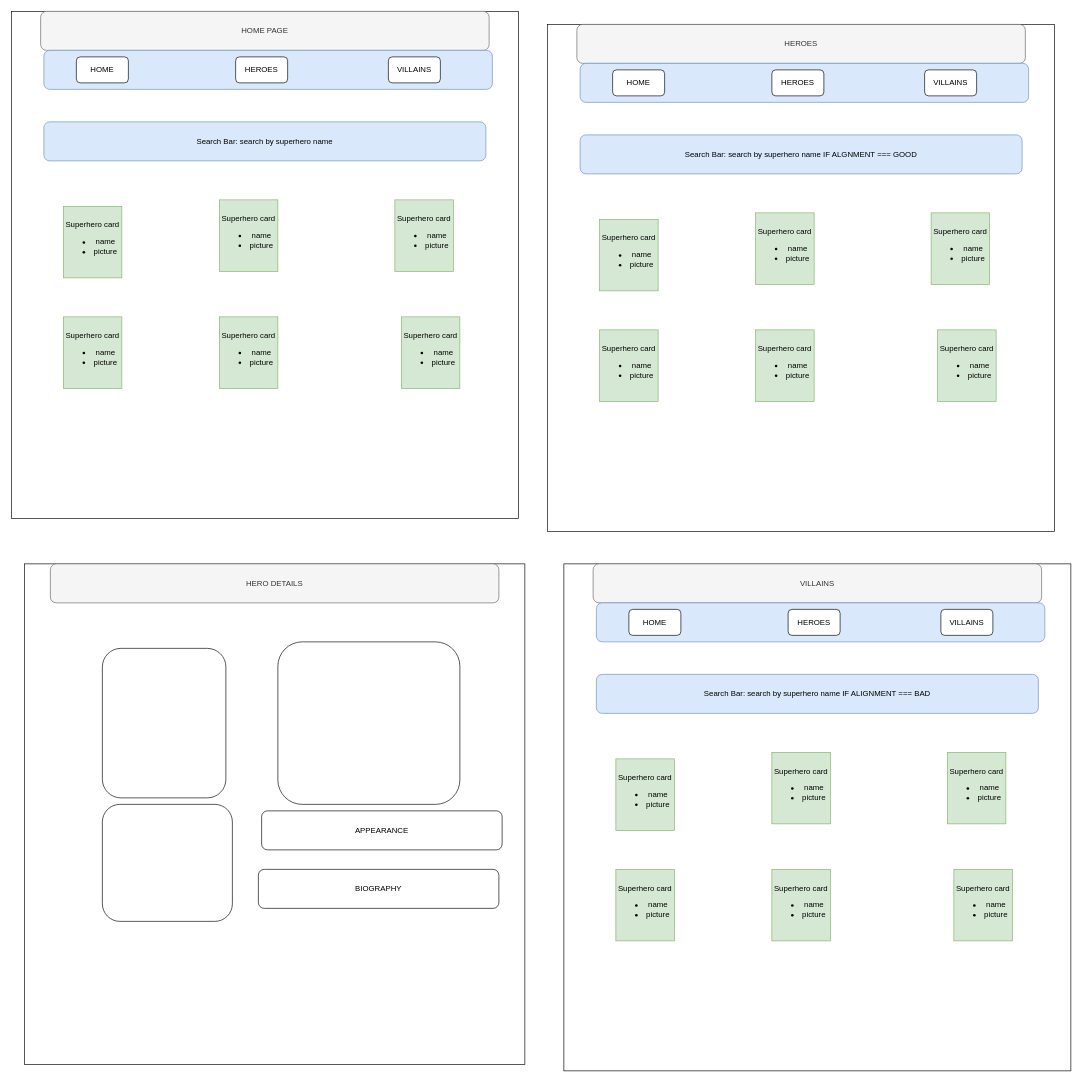
Some shapes in this 1082 by 1082 pixel diagram are drawn without their labels. Here are the shapes that lost their labels. From the top down, the centre of each, then its label:
(x=164, y=723): POWERSTATS INTEL STRENGTH SPEED DURABILITY POWER COMBAT
(x=368, y=722): IMAGE
(x=167, y=862): CONNECTIONS
